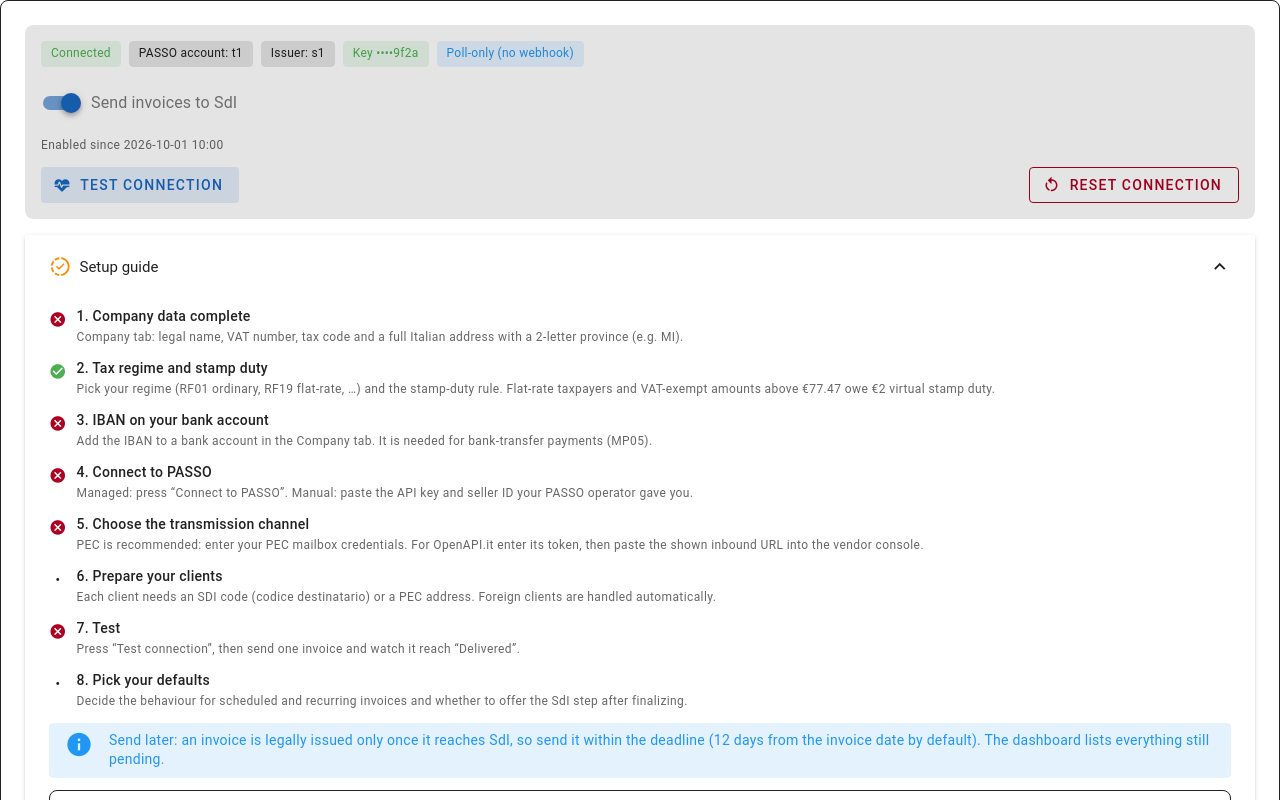
Test: EInvoicingTab — connected (expert) view › Reset opens the confirm, POSTs /reset, and shows the wizard again
The image size is (1280, 800).
Click the button with test id "einvoicing-reset": (1134, 185) [1029, 167, 1239, 203]
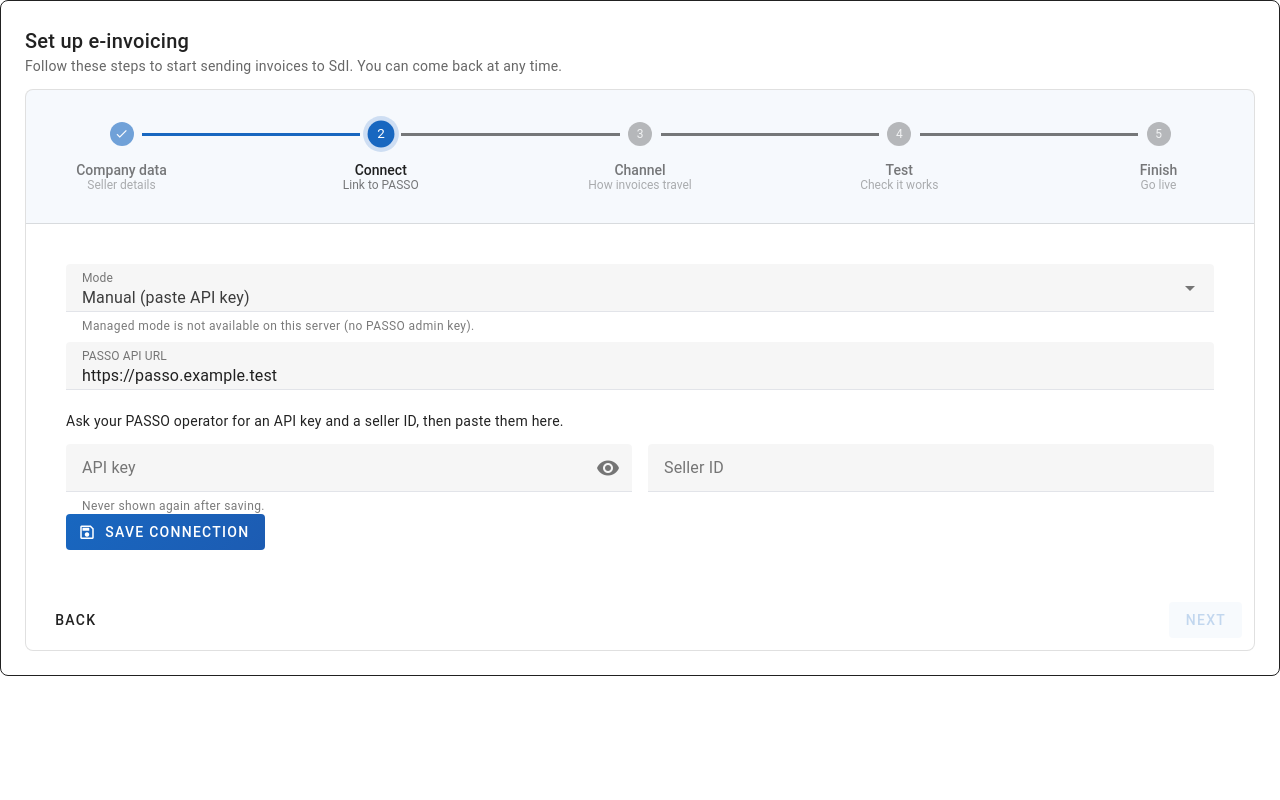
Check: the element with test id "einvoicing-wizard" is shown
